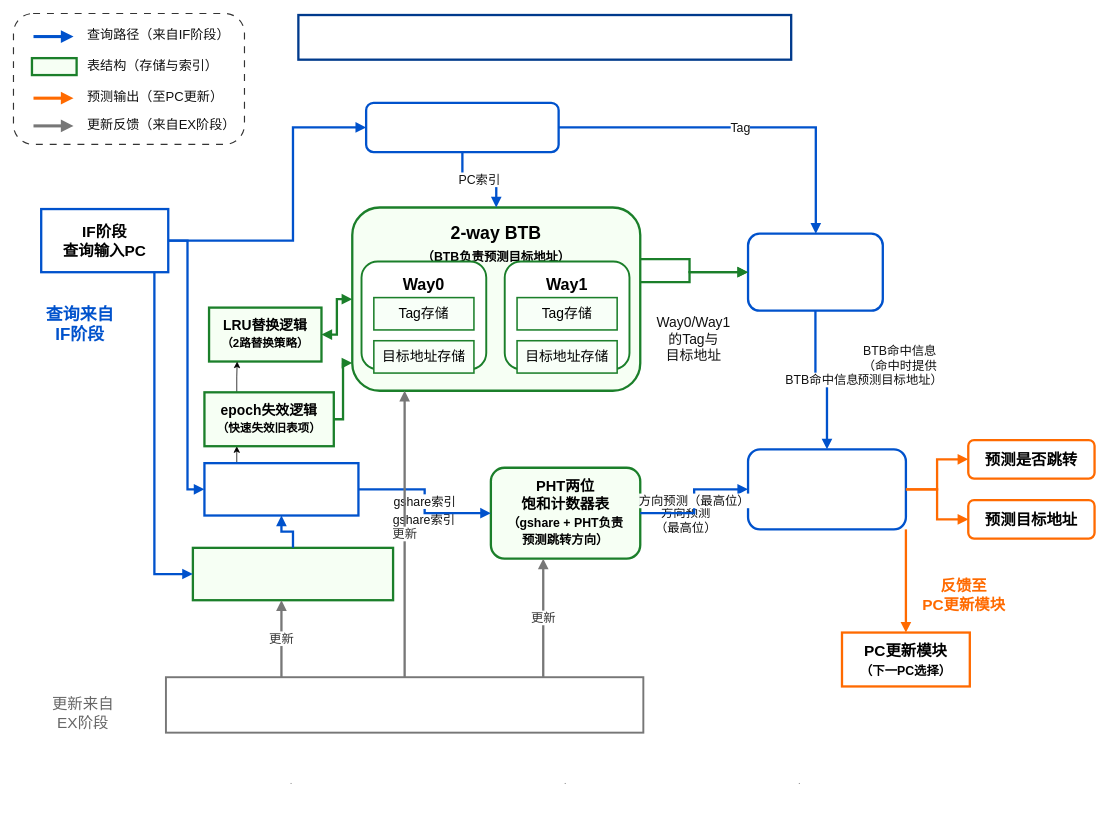
Image size: 1110x832. Some labels were removed from this diagram. The shapes that lost their labels are listed below. From the top down, each one's centre as x and y in pixels, then its label:
the point at 544,36: 分支预测器包含目标预测和方向预测
the point at 462,127: PC索引与Tag提取
the point at 815,271: Tag比较与 命中判断
the point at 281,489: 异或 / gshare 索引生成
the point at 827,489: 预测结果生成 （综合目标与方向预测）
the point at 292,573: GHR全局历史寄存器 （记录分支历史）
the point at 404,704: EX阶段更新通路 （根据实际执行结果更新各预测结构）
